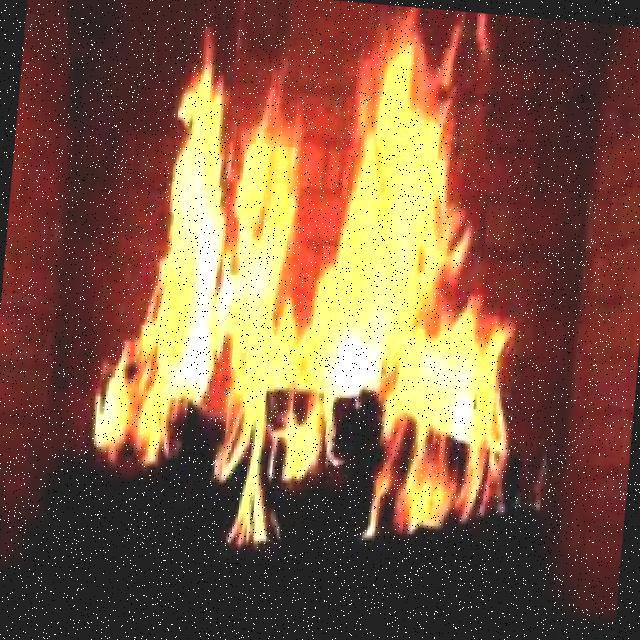Fire: (97, 37, 512, 478)
